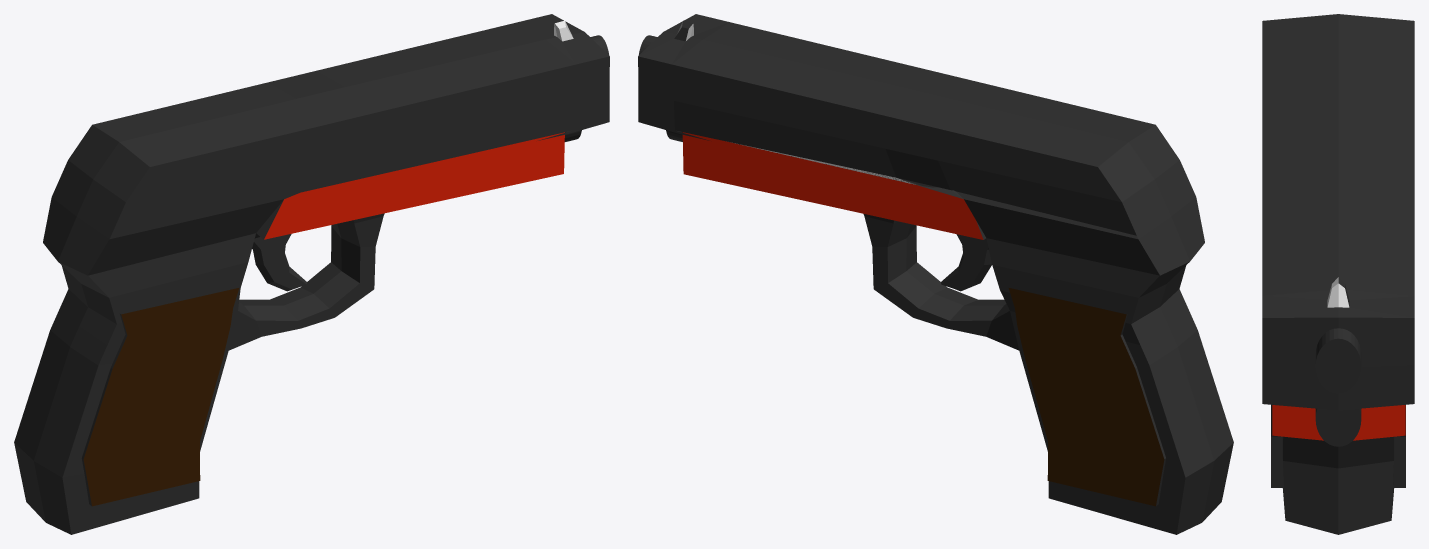
The model's file is Pistol.fbx.
3 views of the same model, side by side, from view 1: azimuth 30°, elevation 25°; view 2: azimuth 150°, elevation 25°; view 3: azimuth 270°, elevation 25° (orthographic). The views are drawn at different scales.
Visible parts, largest first — view 1: Cube; view 2: Cube; view 3: Cube.
Boxes of the visible parts, x1=… form: Cube: x1=14, y1=14, x2=609, y2=534; Cube: x1=638, y1=14, x2=1233, y2=534; Cube: x1=1262, y1=14, x2=1414, y2=534.
Size of the model in its own units: 104 by 65.97 by 18.4.
